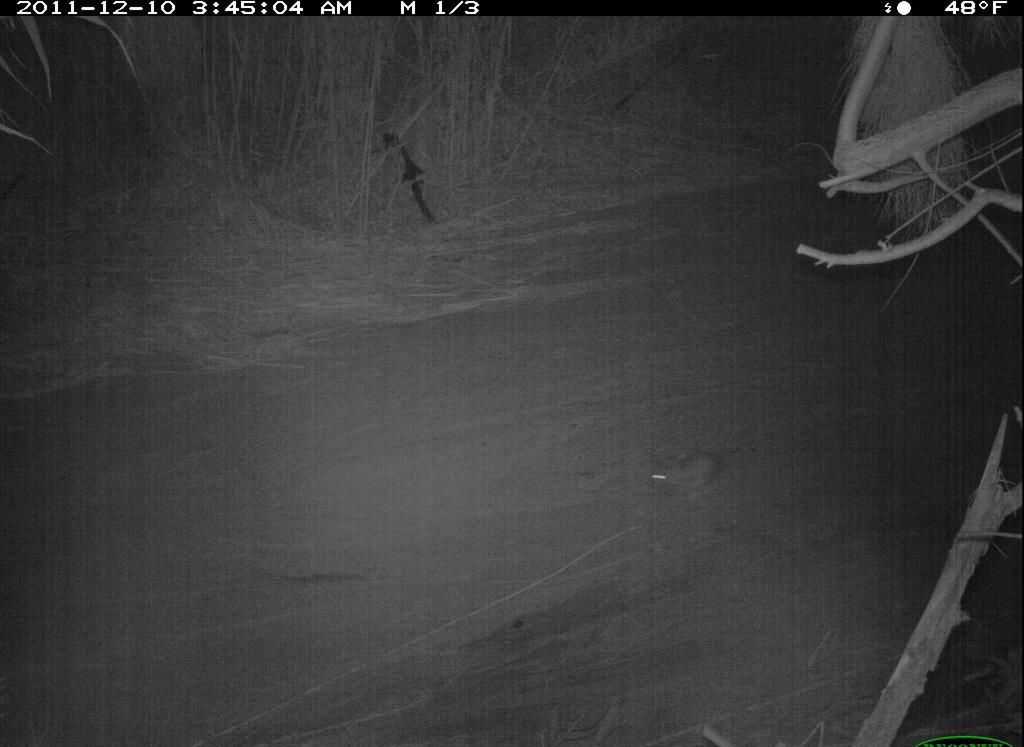rabbit: (638, 438, 735, 506)
